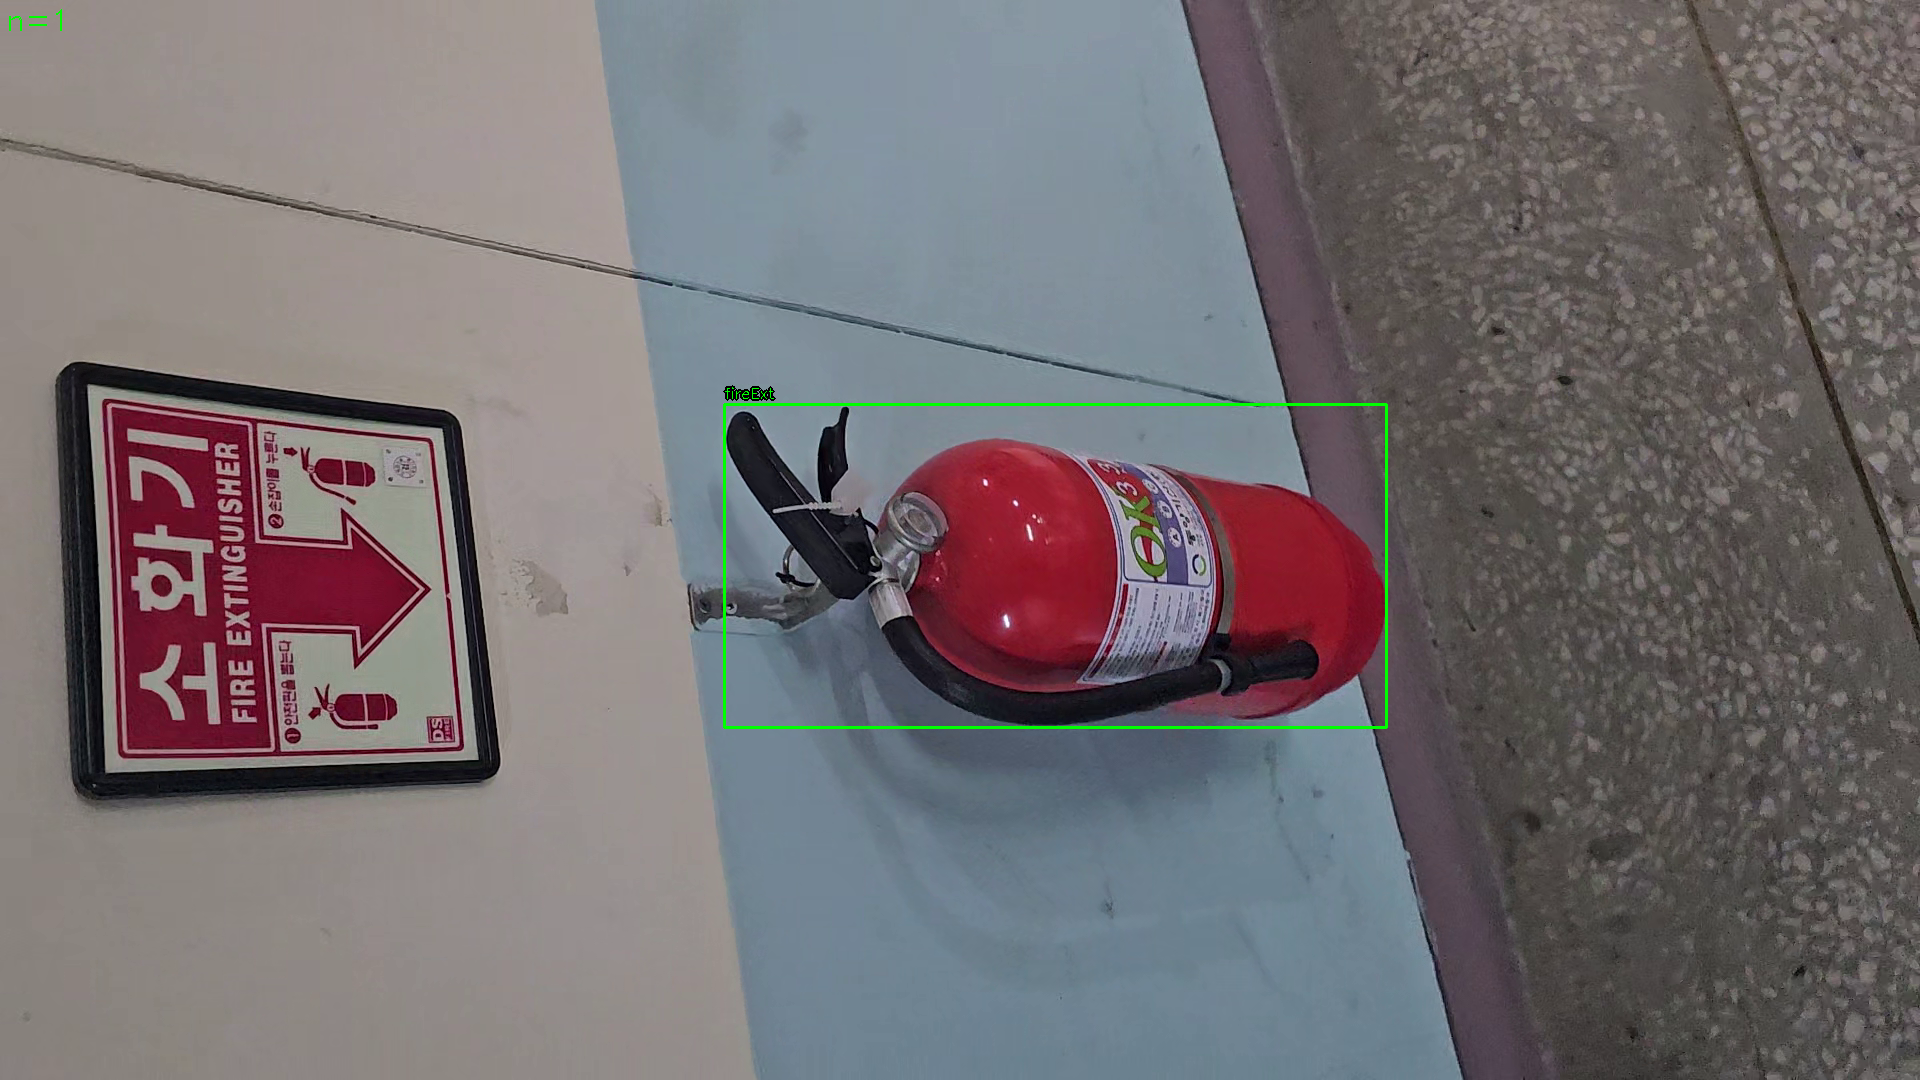lane: (724, 404, 1387, 728)
